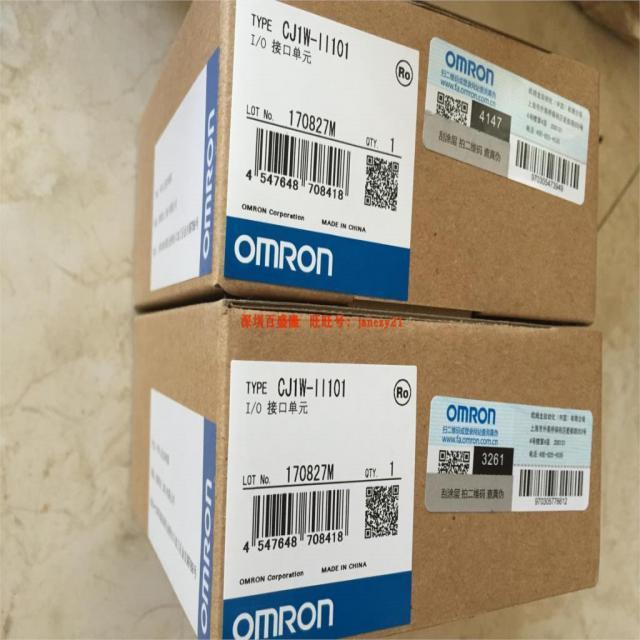box: (126, 301, 606, 640), (127, 0, 607, 334)
